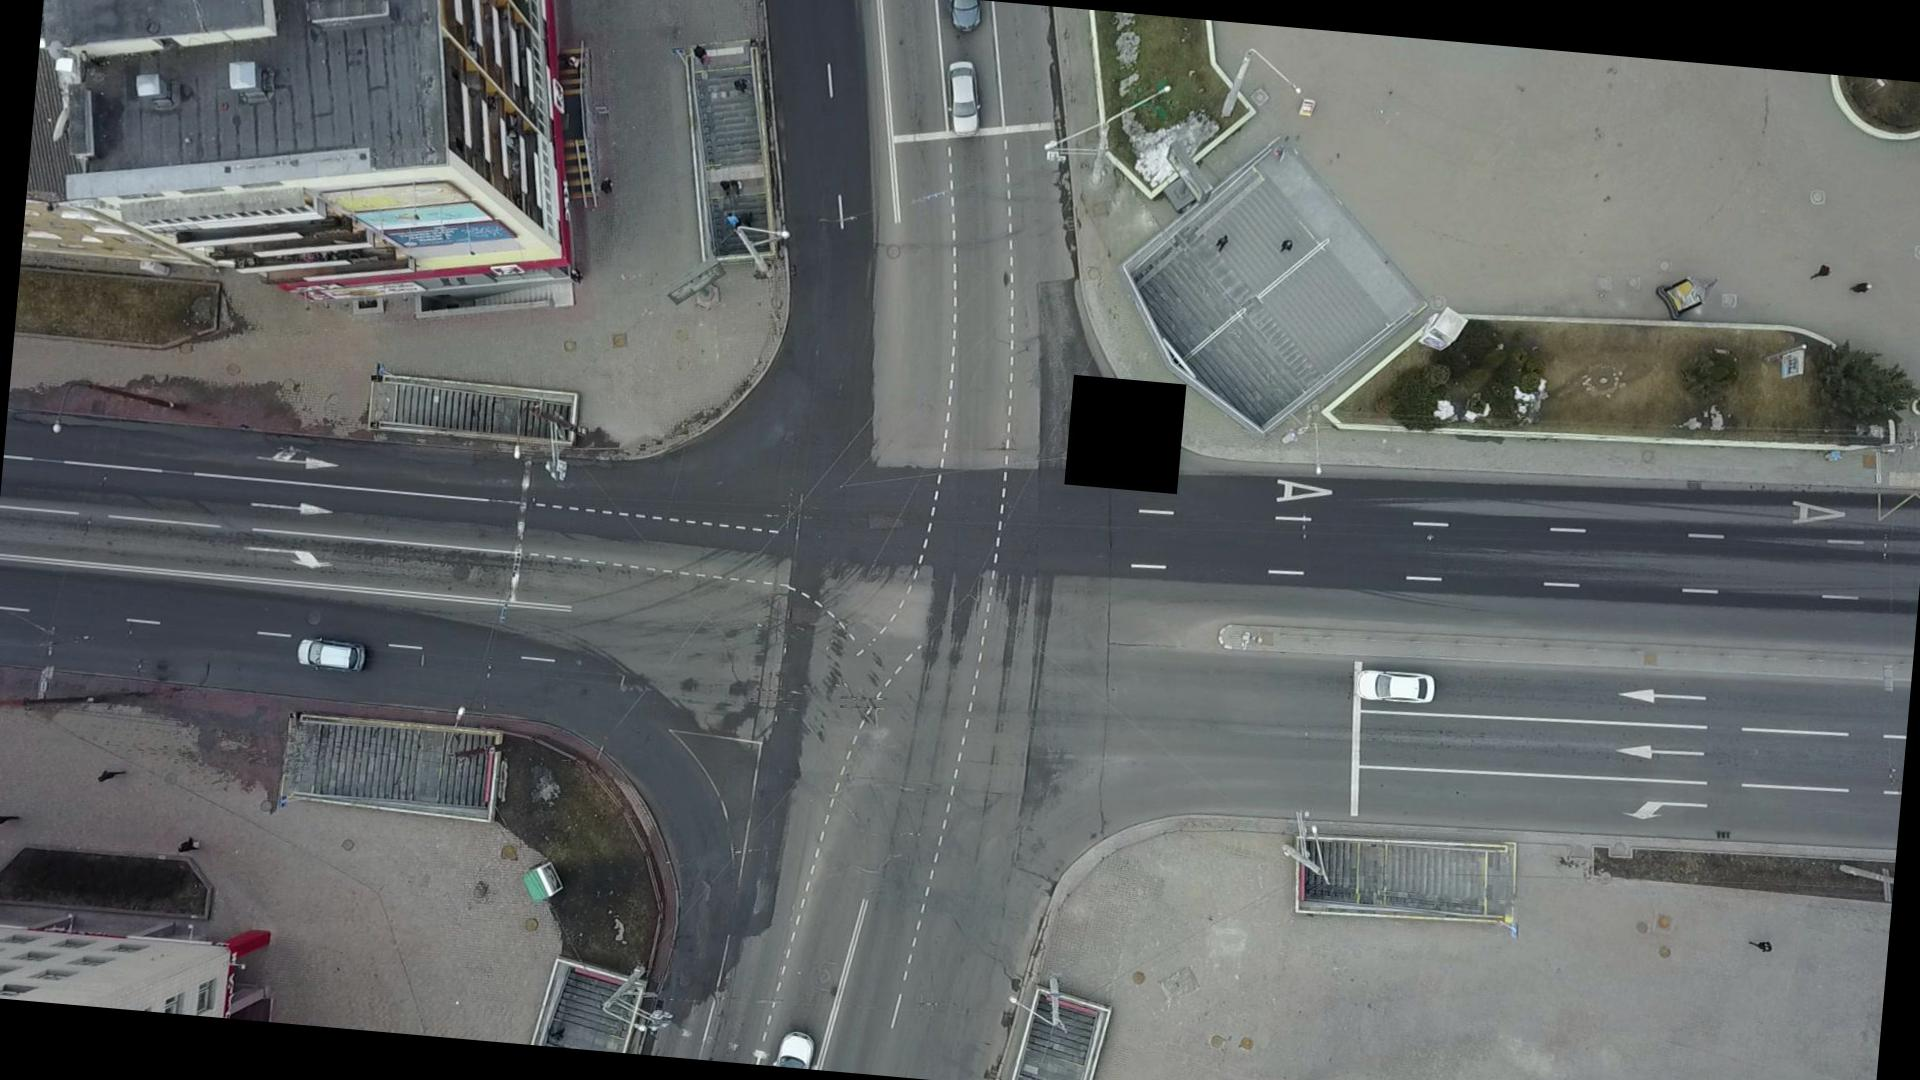vehicle: (938, 54, 989, 138), (1350, 662, 1440, 709), (290, 632, 373, 676)
